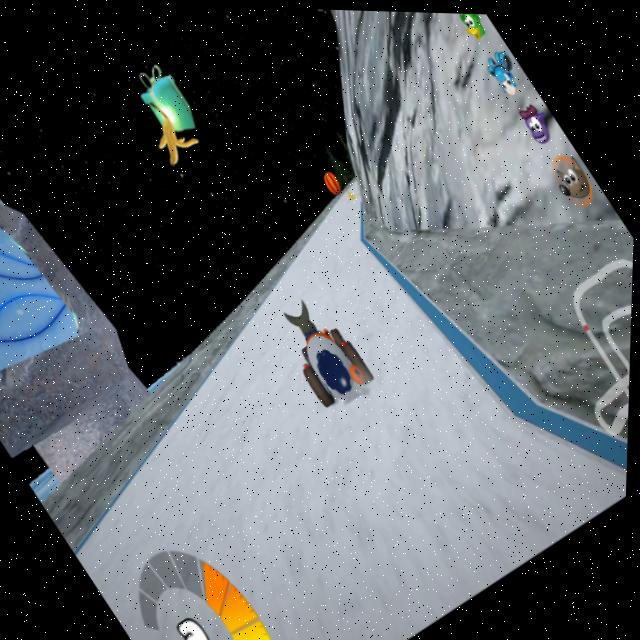obstacle: (338, 180, 366, 206)
off_track: (0, 142, 271, 440)
player_kart: (275, 293, 387, 415)
track: (282, 205, 381, 294)
